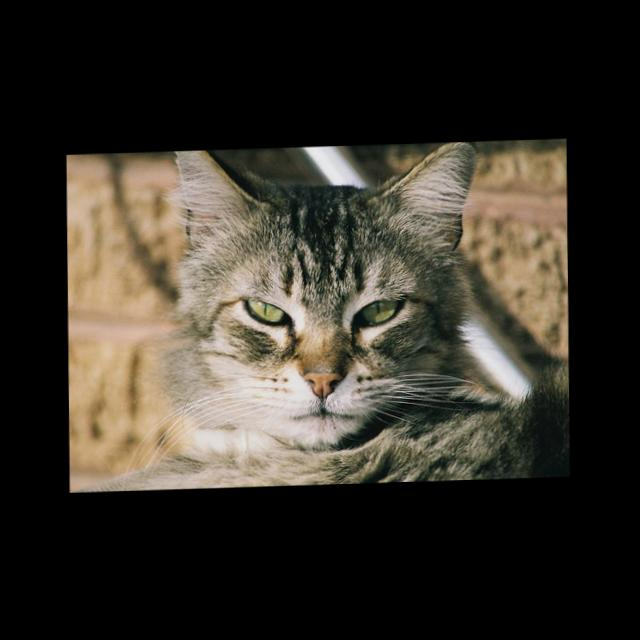animals: (179, 143, 474, 400)
